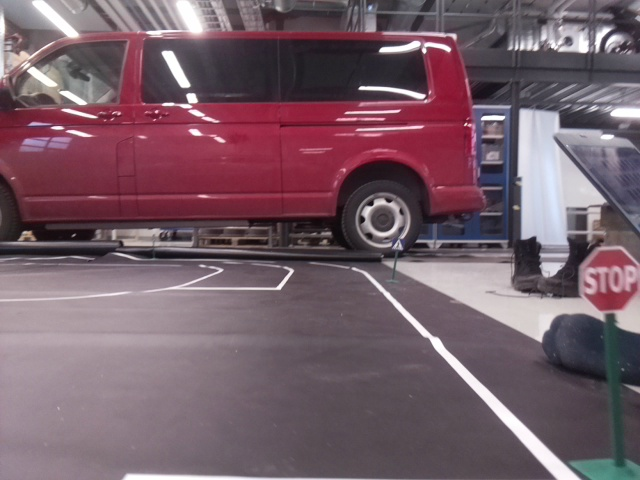Crosswalk: (391, 237, 404, 252)
Stop: (577, 246, 638, 310)
